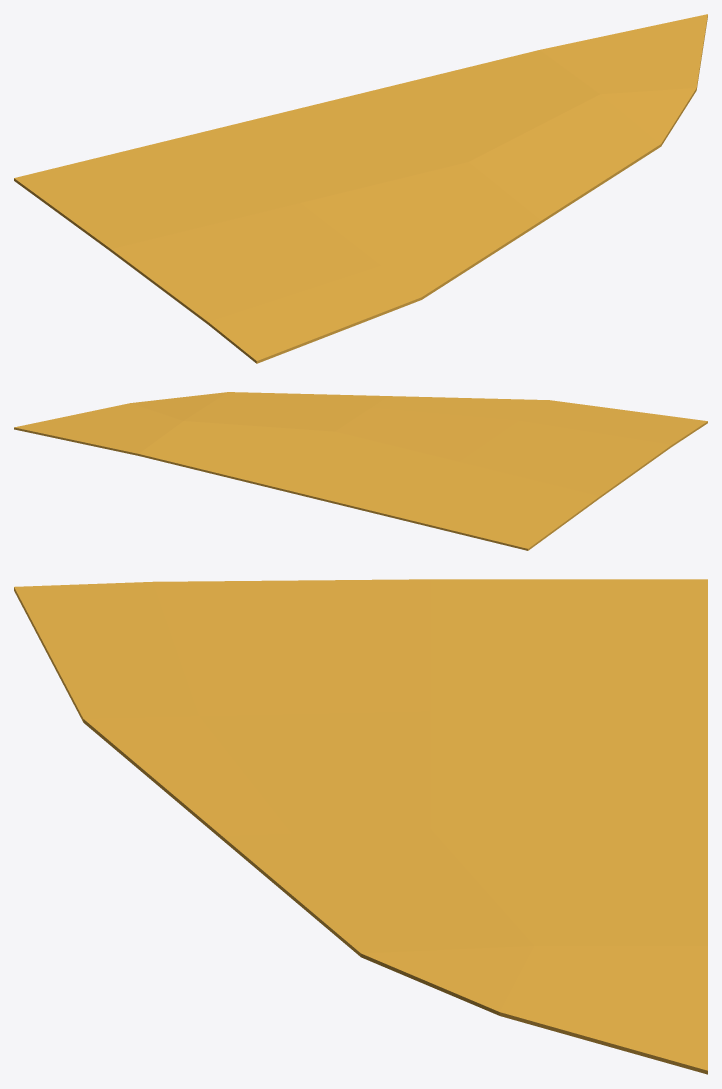
3 views of the same model, one above another, from view 1: azimuth 30°, elevation 25°; view 2: azimuth 150°, elevation 25°; view 3: azimuth 270°, elevation 25° (orthographic). The views are drawn at different scales.
Parts seen in each view (by area): view 1: 01_street_base_plate-COL.048; view 2: 01_street_base_plate-COL.048; view 3: 01_street_base_plate-COL.048.
Boxes of the visible parts, x1,y1,x2,y2 form: 01_street_base_plate-COL.048: [14, 14, 707, 363]; 01_street_base_plate-COL.048: [14, 392, 707, 550]; 01_street_base_plate-COL.048: [14, 579, 707, 1074].
Bounding box in the file's own units: 264 × 2.92 × 160.
